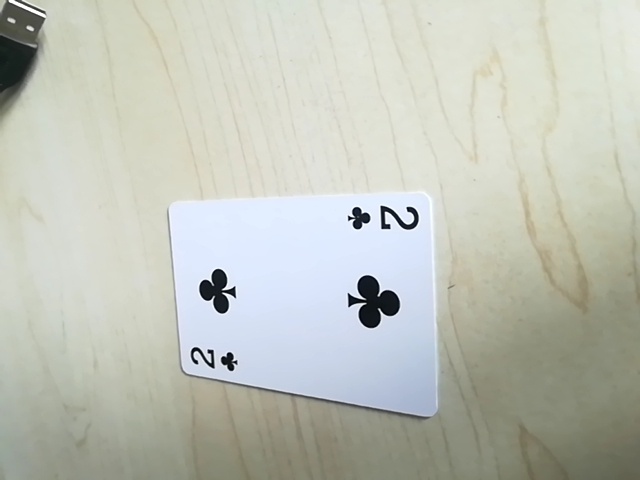mh 2: (344, 196, 424, 238), (181, 340, 244, 376)
